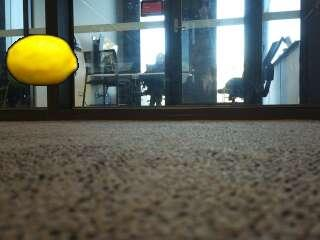lemon: (8, 36, 78, 86)
